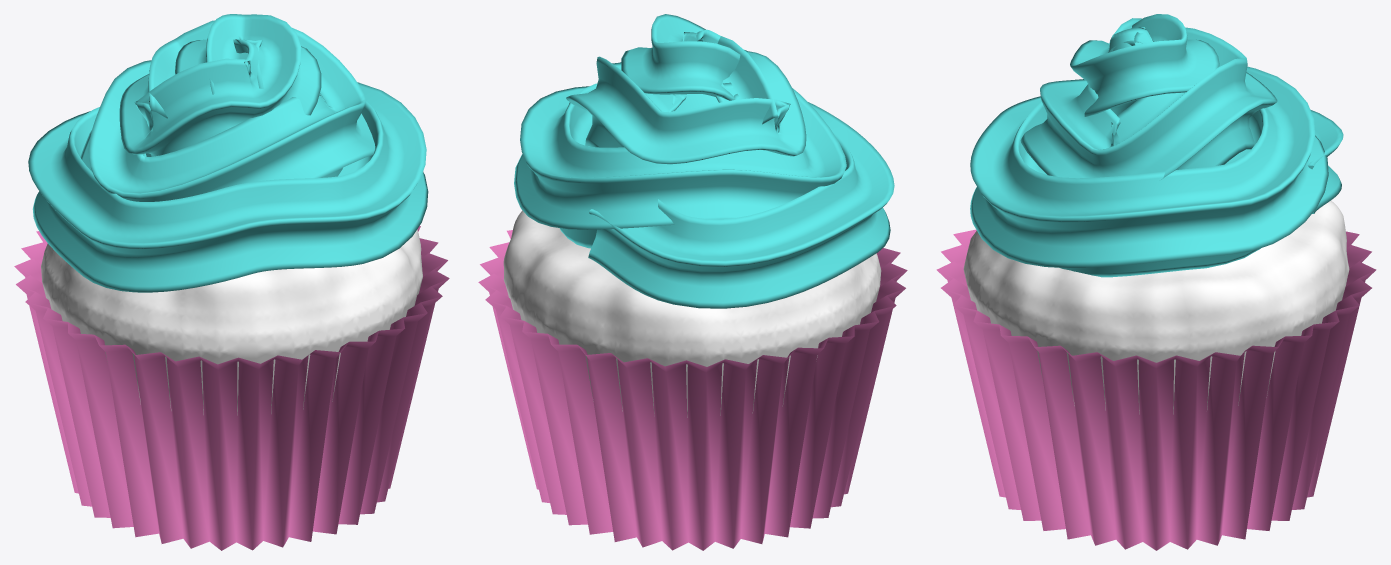
Rendered from G2_Cupcakeg.glb.
3 renders of one model, left to right at view 1: azimuth 30°, elevation 25°; view 2: azimuth 150°, elevation 25°; view 3: azimuth 270°, elevation 25°, orthographic. The views are drawn at different scales.
Parts seen in each view (by area): view 1: BezierCircle, Circle.001, Sphere.001; view 2: BezierCircle, Circle.001, Sphere.001; view 3: BezierCircle, Circle.001, Sphere.001.
Boxes of the visible parts, x1=… form: BezierCircle: x1=28, y1=14, x2=428, y2=292; Circle.001: x1=14, y1=226, x2=449, y2=550; Sphere.001: x1=41, y1=229, x2=422, y2=415; BezierCircle: x1=514, y1=14, x2=894, y2=308; Circle.001: x1=478, y1=230, x2=907, y2=550; Sphere.001: x1=503, y1=210, x2=881, y2=417; BezierCircle: x1=970, y1=14, x2=1343, y2=277; Circle.001: x1=936, y1=229, x2=1376, y2=550; Sphere.001: x1=963, y1=200, x2=1349, y2=414.
Bounding box in the file's own units: 2.75 × 3.19 × 2.75.
